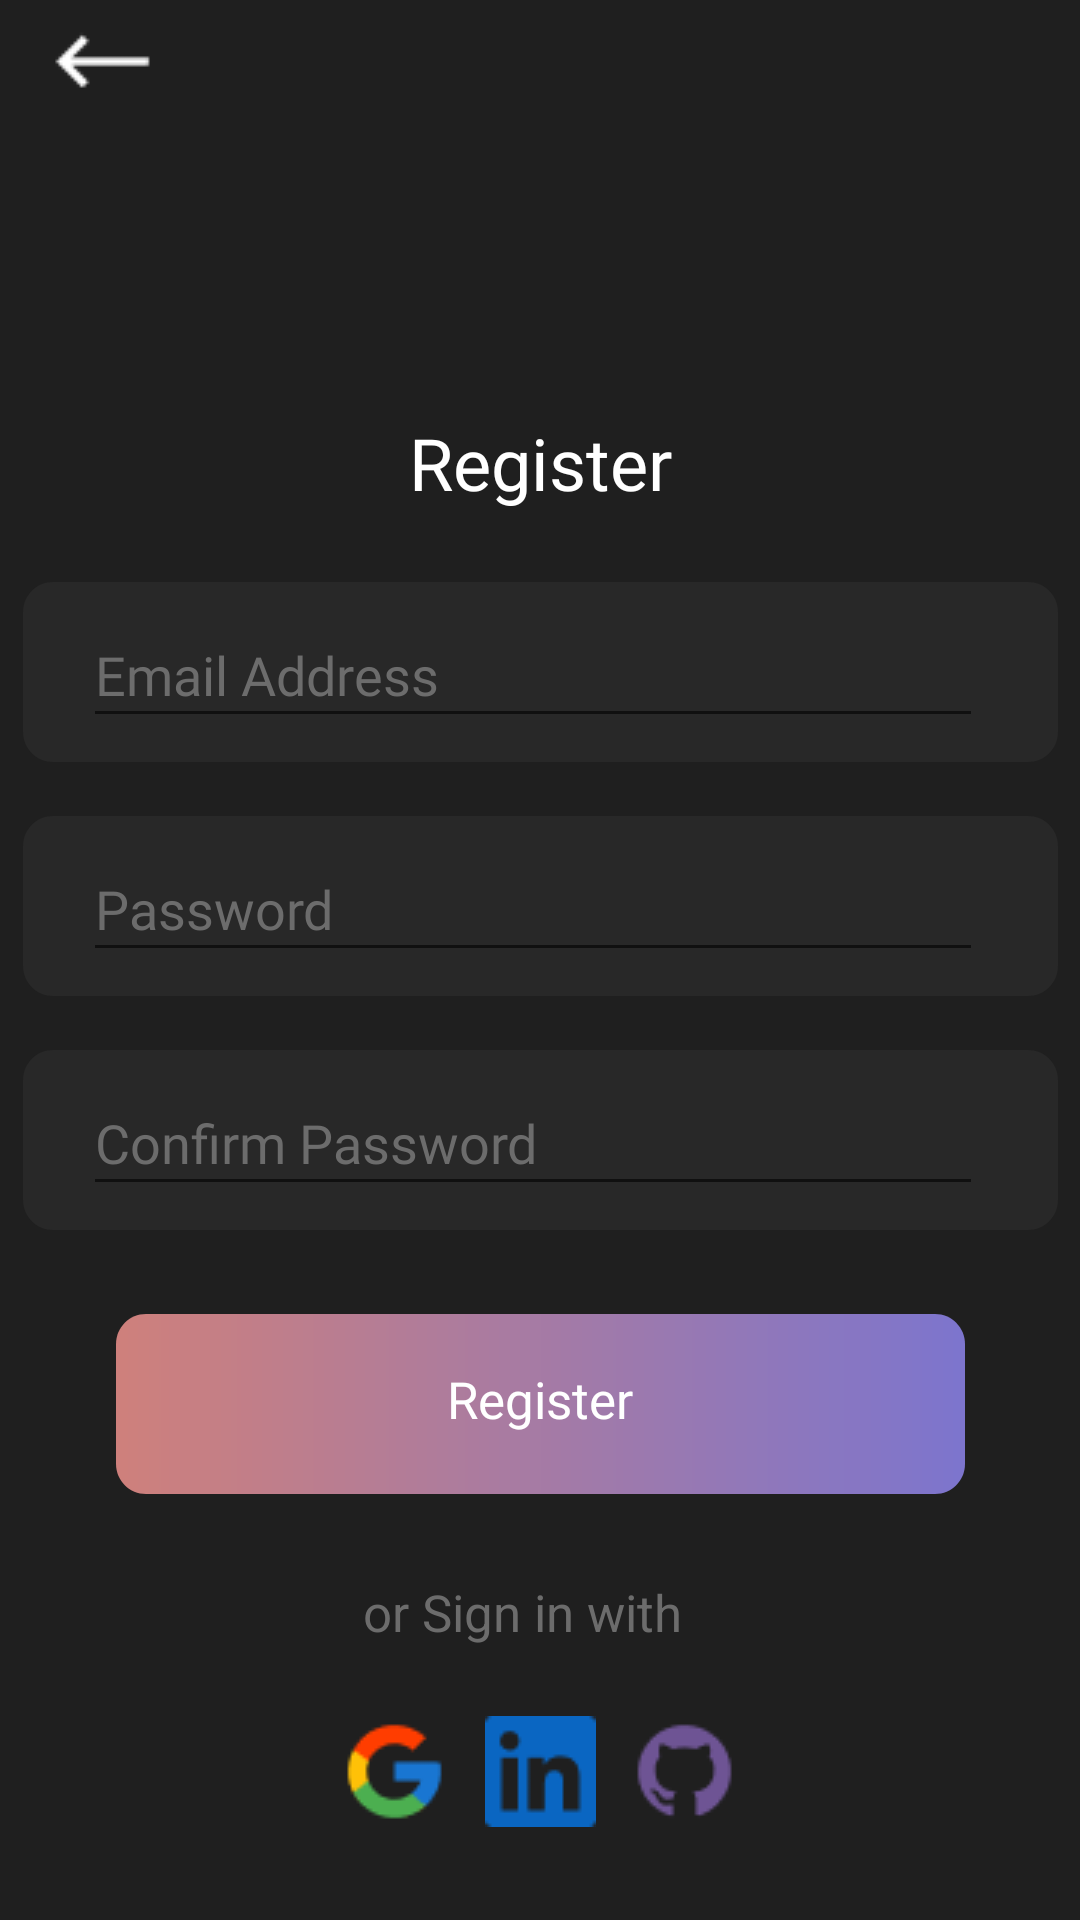

Screen size 1080x1920. Icon name, then its center in pixels as (x,y):
back: (102,61)
